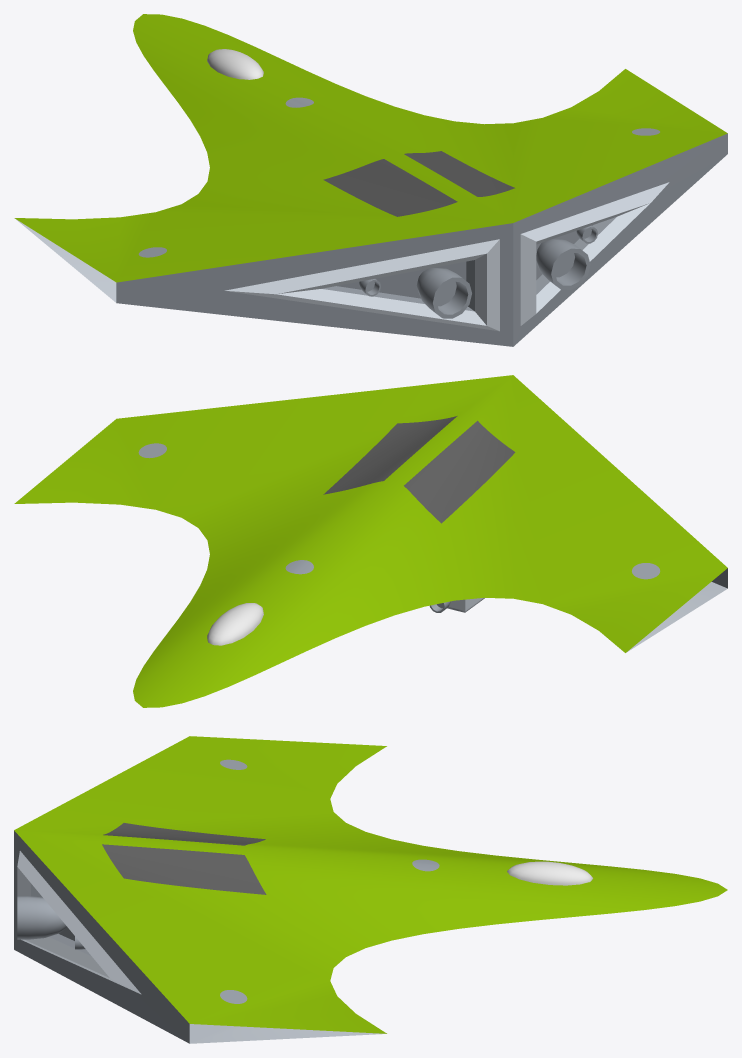
File: lod2_body.dae
The picture shows the model from 3 angles, top to bottom: view 1: azimuth 30°, elevation 25°; view 2: azimuth 150°, elevation 25°; view 3: azimuth 270°, elevation 25°; orthographic projection. The views are drawn at different scales.
Parts seen in each view (by area): view 1: lod2_001, lod2_003; view 2: lod2_001, lod2_003; view 3: lod2_001, lod2_003.
Boxes of the visible parts, x1=… form: lod2_001: x1=14, y1=14, x2=727, y2=346; lod2_003: x1=207, y1=49, x2=263, y2=79; lod2_001: x1=14, y1=375, x2=727, y2=707; lod2_003: x1=207, y1=603, x2=263, y2=645; lod2_001: x1=14, y1=736, x2=727, y2=1043; lod2_003: x1=507, y1=861, x2=592, y2=885.
Size of the model in its own units: 24.8 by 26 by 4.8.
